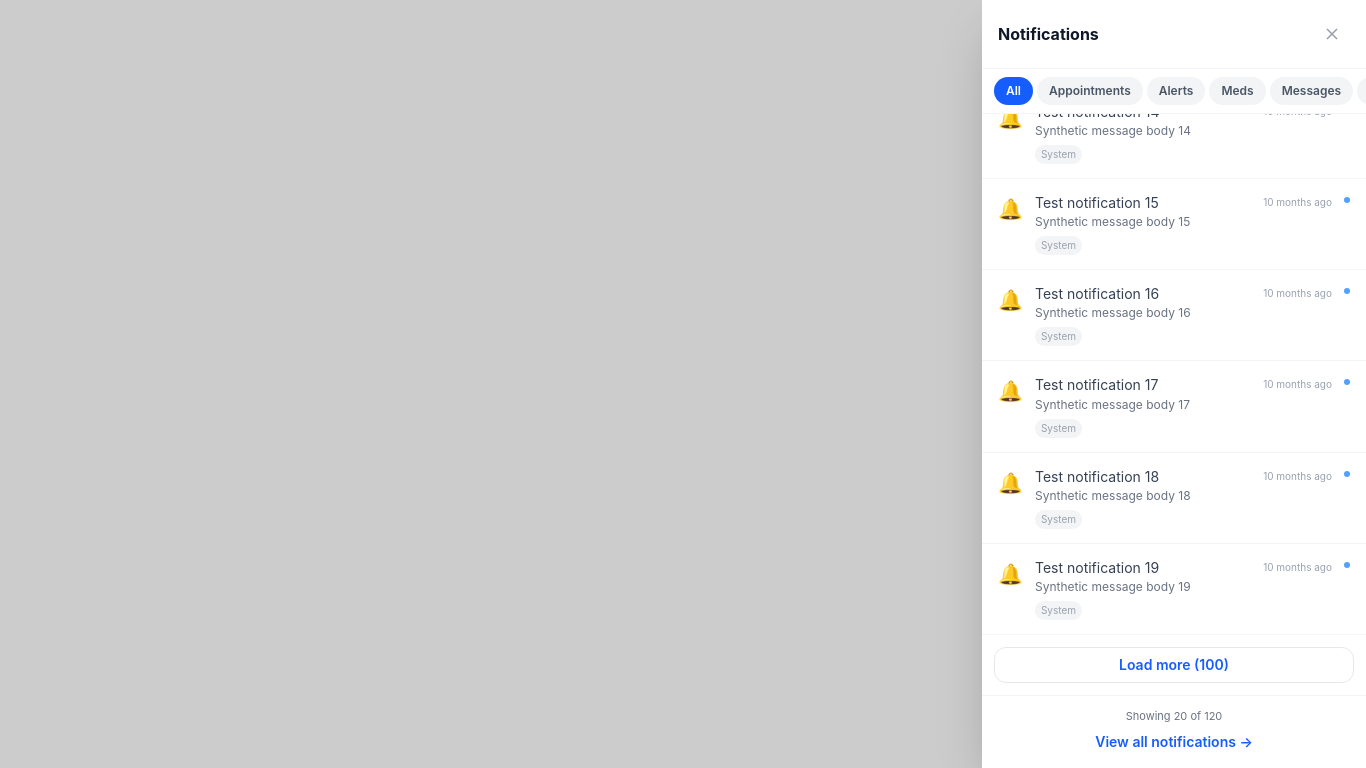
Test case: NotificationCenter pagination › counts down only the notifications still outside the window
(page scrolled)
What coordinates should you click on to do the following:
click the button "Load more (100)"
I would click on:
 (1174, 665)
Its box is [994,647,1354,683].
(page scrolled)
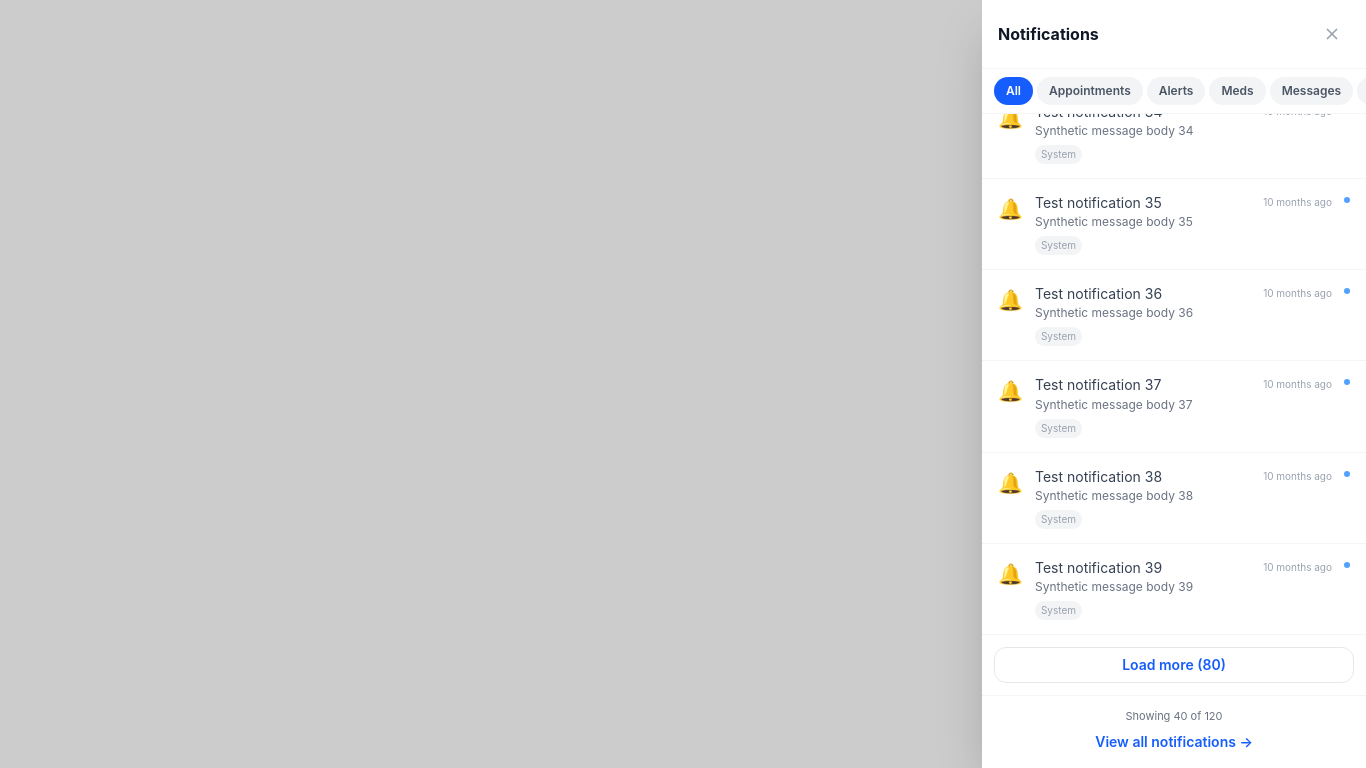
expect the button "Load more (80)" is shown: met, box [994,647,1354,683]
